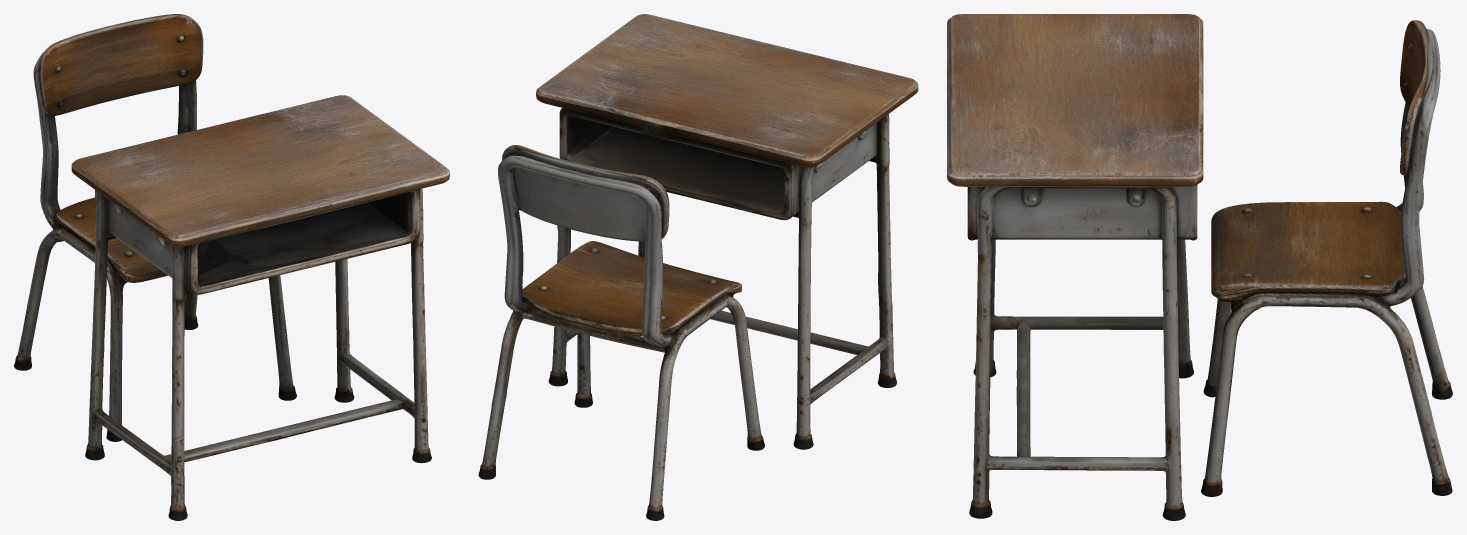
The model's file is BanGheHocSinh.fbx.
3 renders of one model, left to right at view 1: azimuth 30°, elevation 25°; view 2: azimuth 150°, elevation 25°; view 3: azimuth 270°, elevation 25°, orthographic. The views are drawn at different scales.
Visible parts, largest first — view 1: node_0; view 2: node_0; view 3: node_0.
Boxes of the visible parts, bbox=[...] form: node_0: bbox=[14, 14, 449, 520]; node_0: bbox=[478, 14, 918, 520]; node_0: bbox=[947, 14, 1452, 520].
Bounding box in the file's own units: 75.99 × 84.42 × 100.
Materials: 1 (1 with a texture image).
